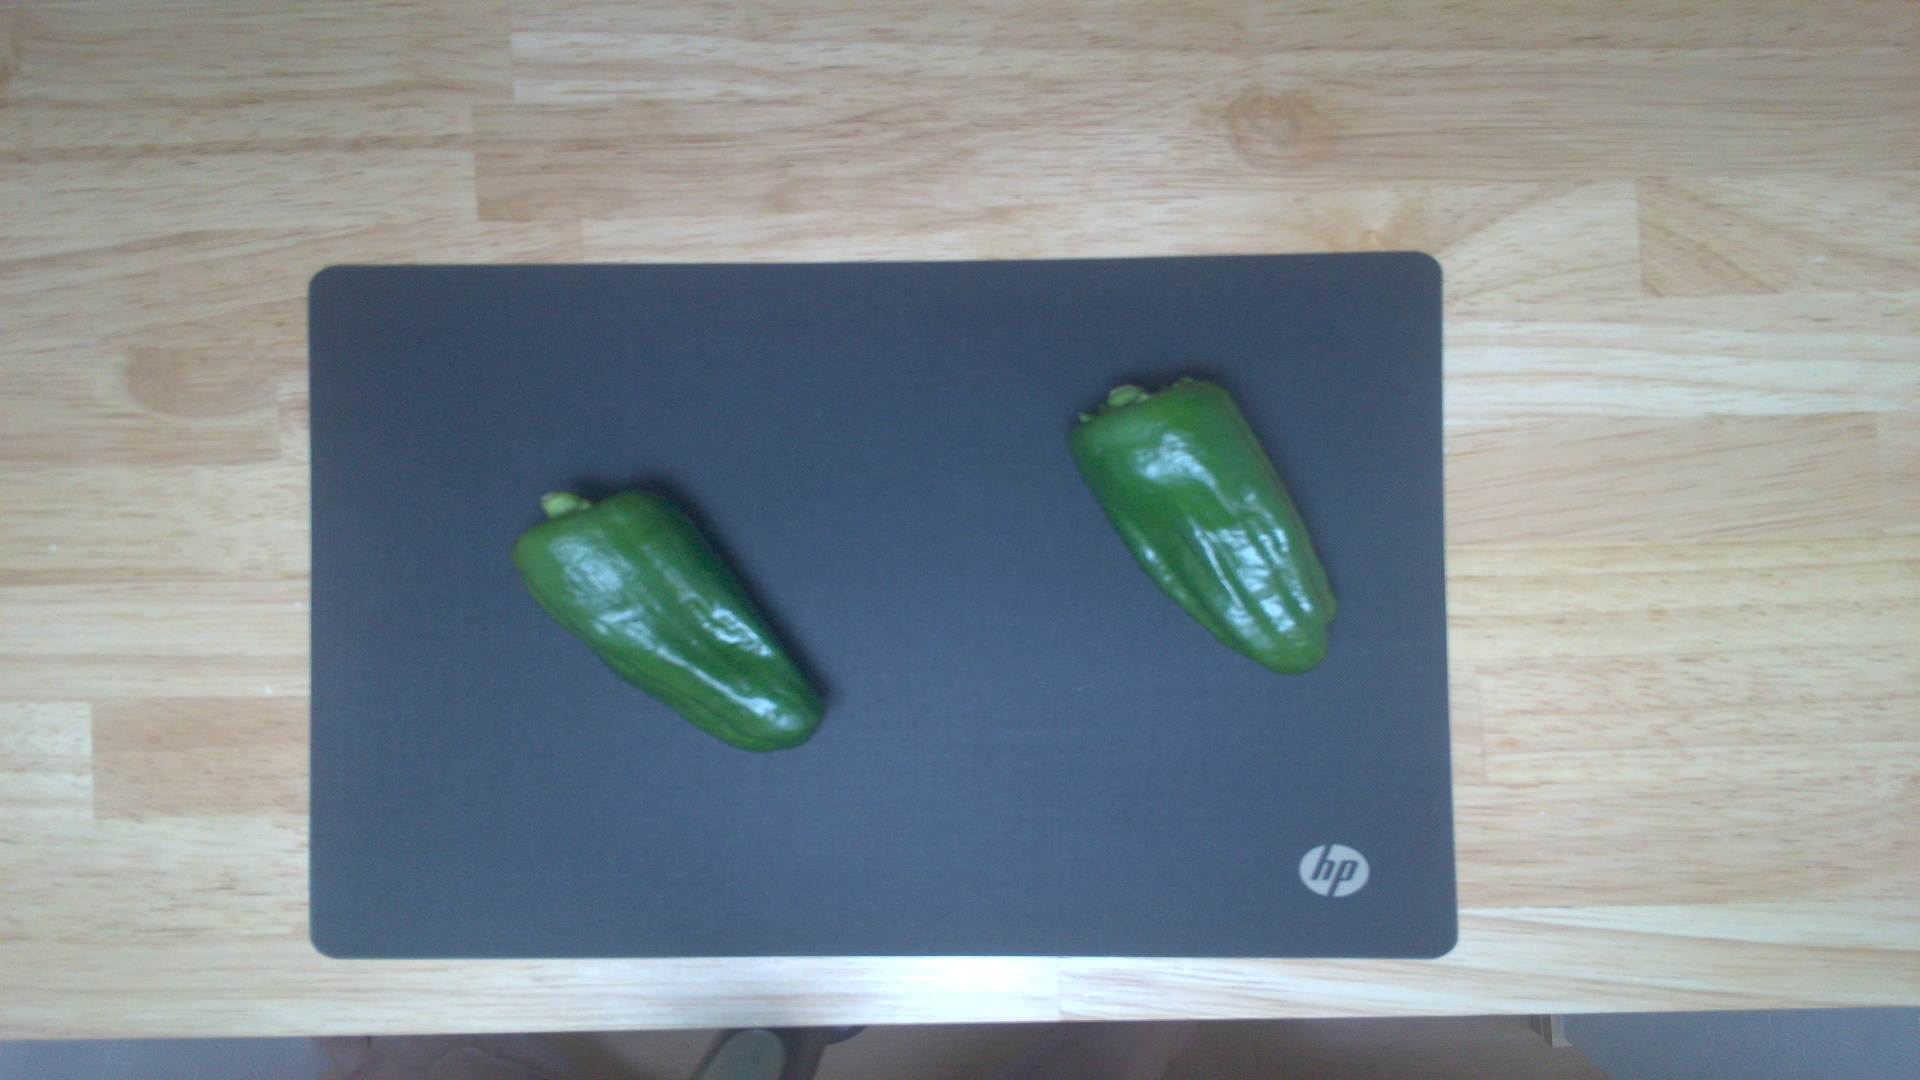Piman: (510, 483, 825, 757), (1069, 372, 1341, 673)
